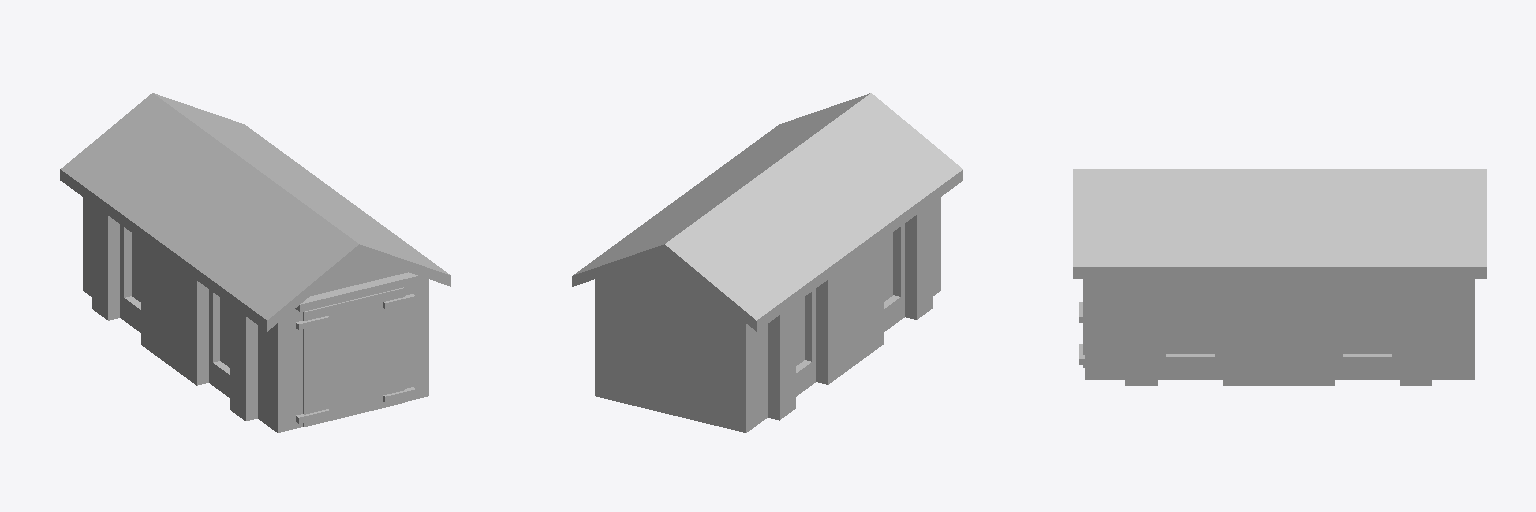
File: SM_Bld_Warehouse_02.obj
3 views of the same model, side by side, from view 1: azimuth 30°, elevation 25°; view 2: azimuth 150°, elevation 25°; view 3: azimuth 270°, elevation 25° (orthographic).
Parts seen in each view (by area): view 1: SM_Bld_Warehouse_02:Mesh; view 2: SM_Bld_Warehouse_02:Mesh; view 3: SM_Bld_Warehouse_02:Mesh.
Boxes of the visible parts, <box> form: SM_Bld_Warehouse_02:Mesh: <box>60,93,450,432</box>; SM_Bld_Warehouse_02:Mesh: <box>572,93,962,432</box>; SM_Bld_Warehouse_02:Mesh: <box>1073,169,1486,385</box>.
Bounding box in the file's own units: 12.7 × 11.53 × 24.7.